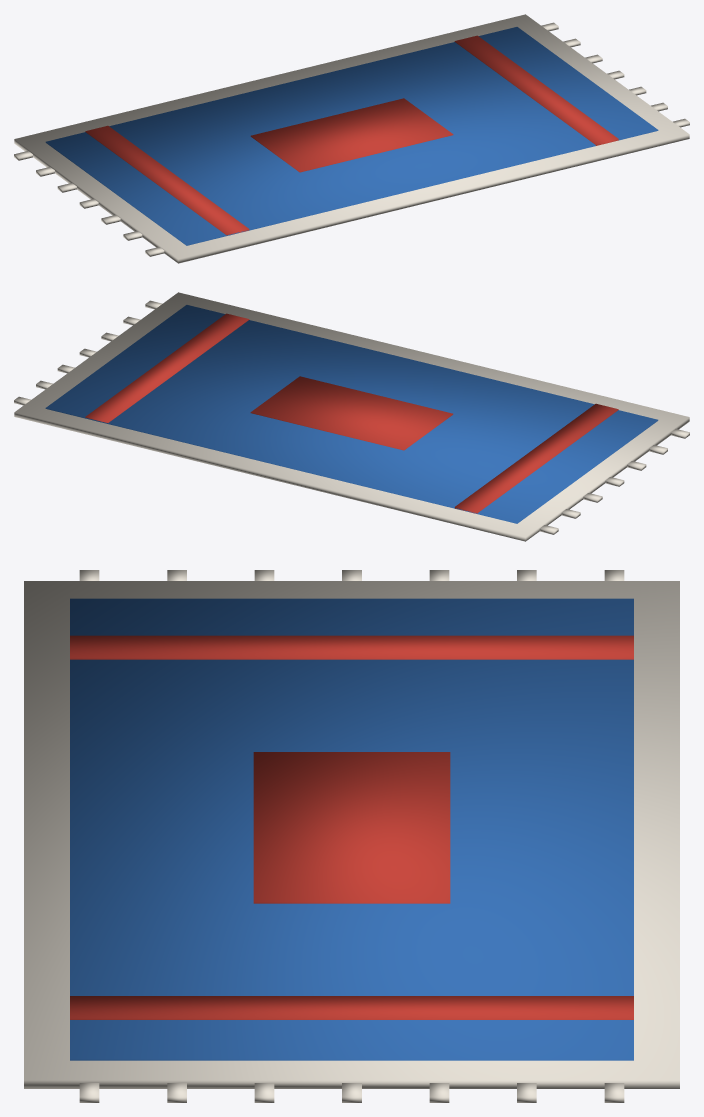
File: rug_long.glb
3 renders of one model, top to bottom at view 1: azimuth 30°, elevation 25°; view 2: azimuth 150°, elevation 25°; view 3: azimuth 270°, elevation 25°, orthographic. The views are drawn at different scales.
Visible parts, largest first — view 1: rug_long; view 2: rug_long; view 3: rug_long.
Part boxes in pixels (bbox=[...]): rug_long: bbox=[14, 14, 689, 263]; rug_long: bbox=[14, 292, 689, 541]; rug_long: bbox=[24, 570, 679, 1102].
Bounding box in the file's own units: 1.9 × 0.021 × 1.
